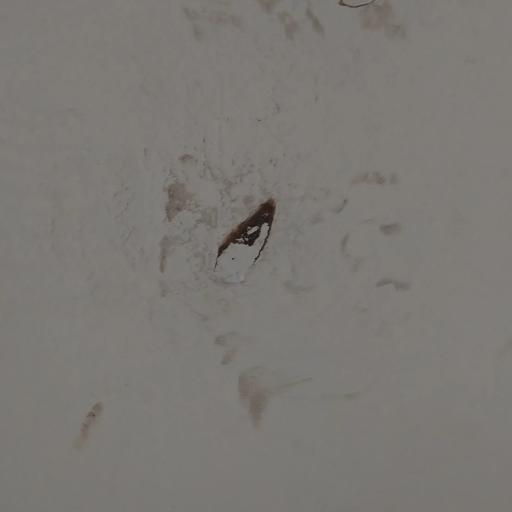stain: (101, 81, 421, 446), (175, 0, 429, 91), (60, 393, 106, 459), (459, 35, 476, 106)
